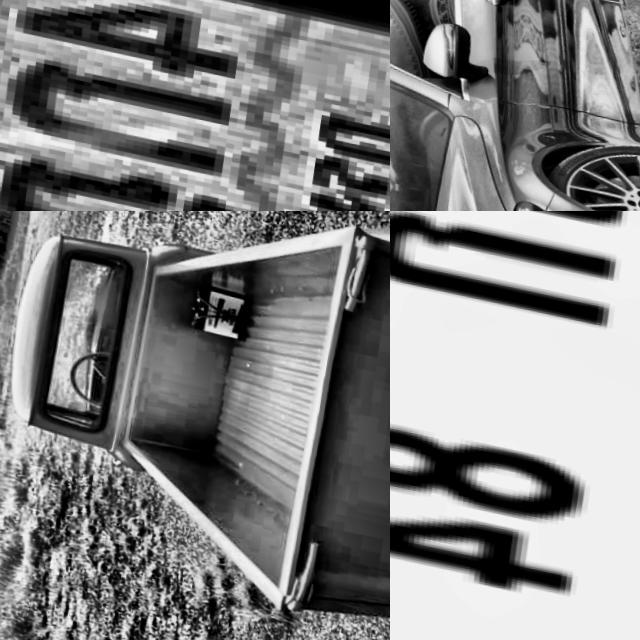license-plate: (390, 211, 640, 640), (0, 0, 390, 211)
